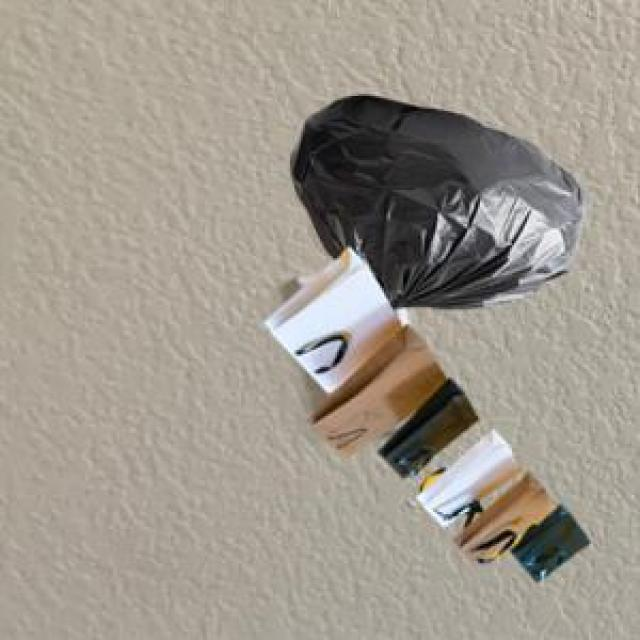miscellaneous trash: (286, 92, 585, 312)
paper: (260, 243, 585, 578)
